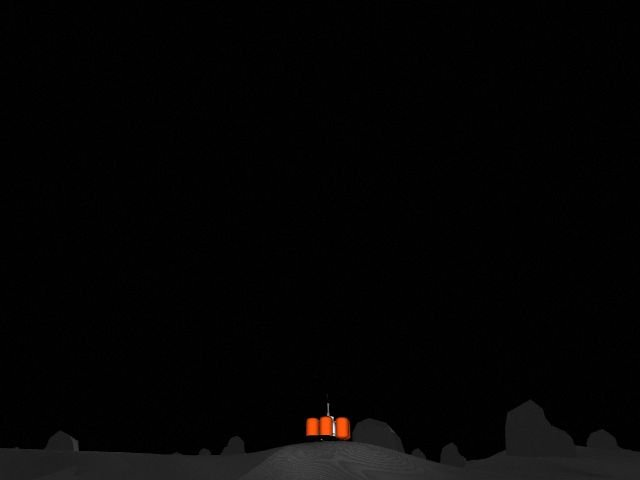homebase: (297, 392, 360, 467)
